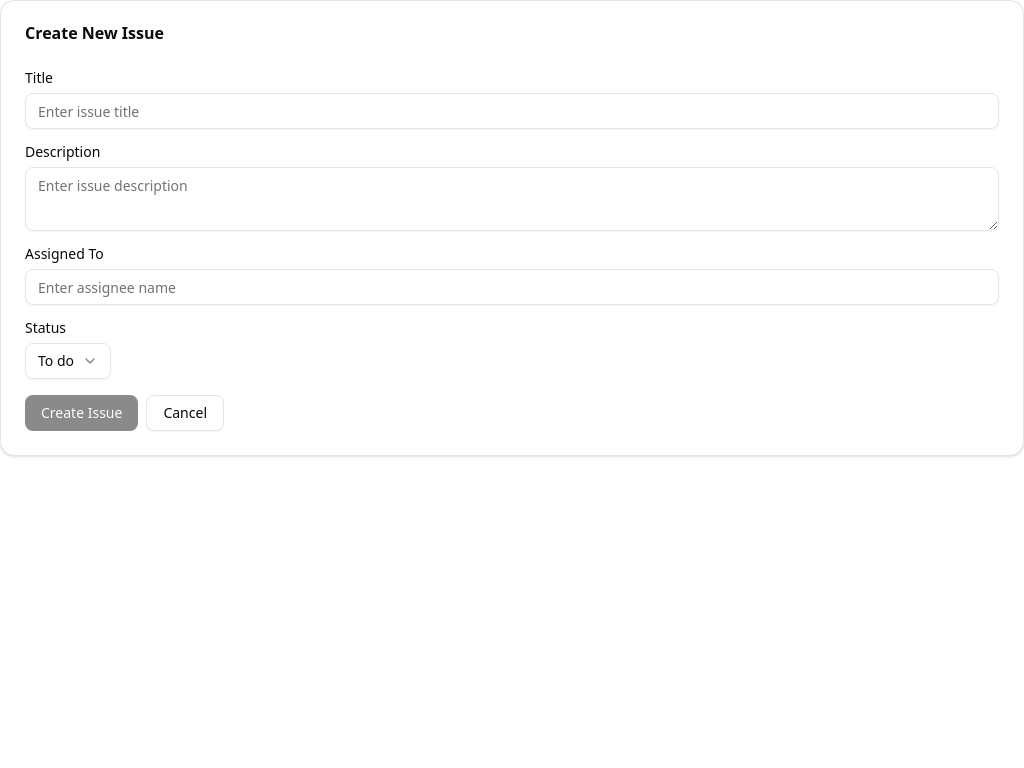
Test: IssueForm › Error Handling › displays error message on create failure
Type "New Issue" into the field with placeholder "Enter issue title" at (512, 111), box [25,93,999,129]
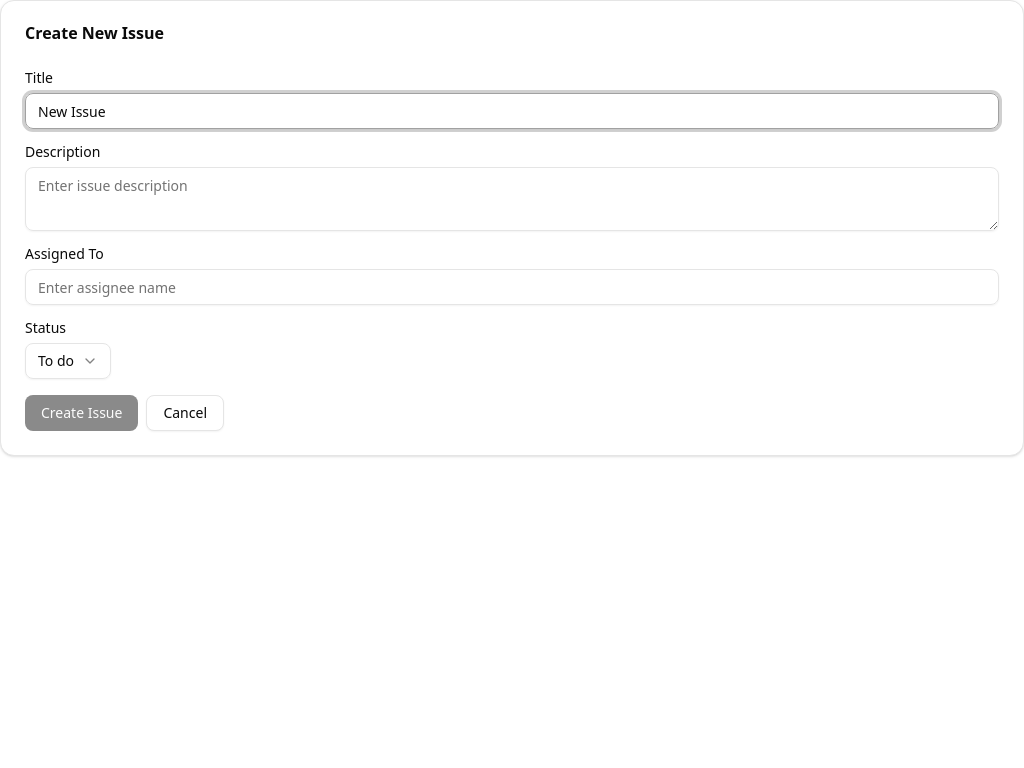
Type "Jane Doe" into the field with placeholder "Enter assignee name" at (512, 287), box [25,269,999,305]
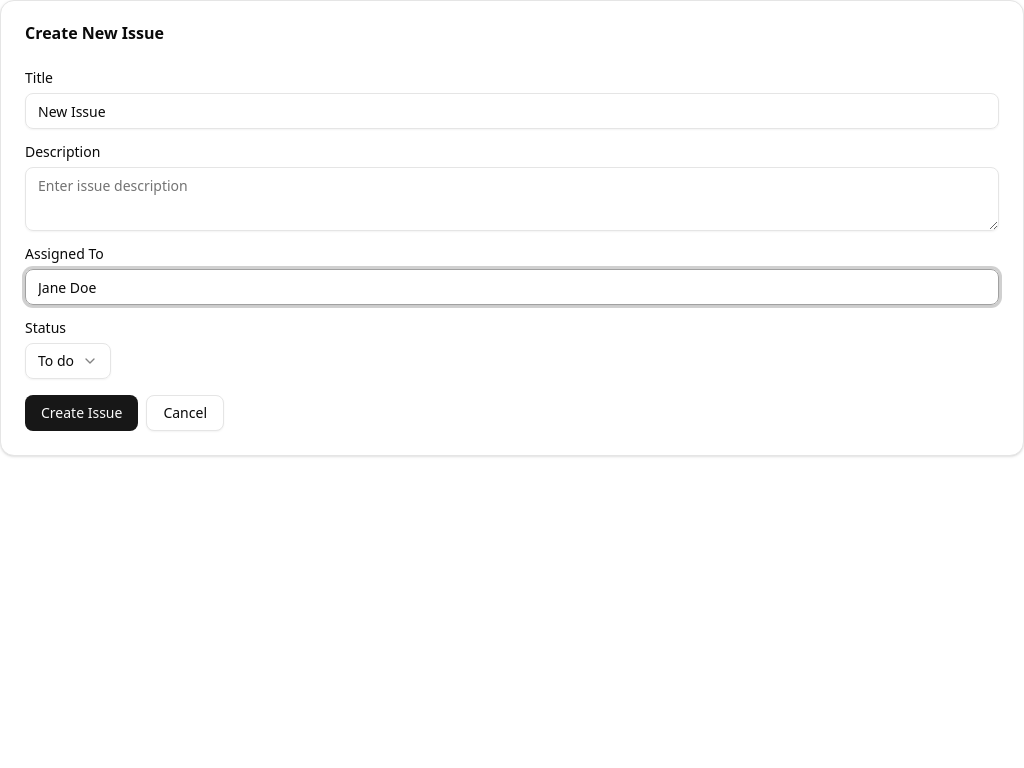
Click the button "Create Issue" at (82, 413), box [25,395,138,431]
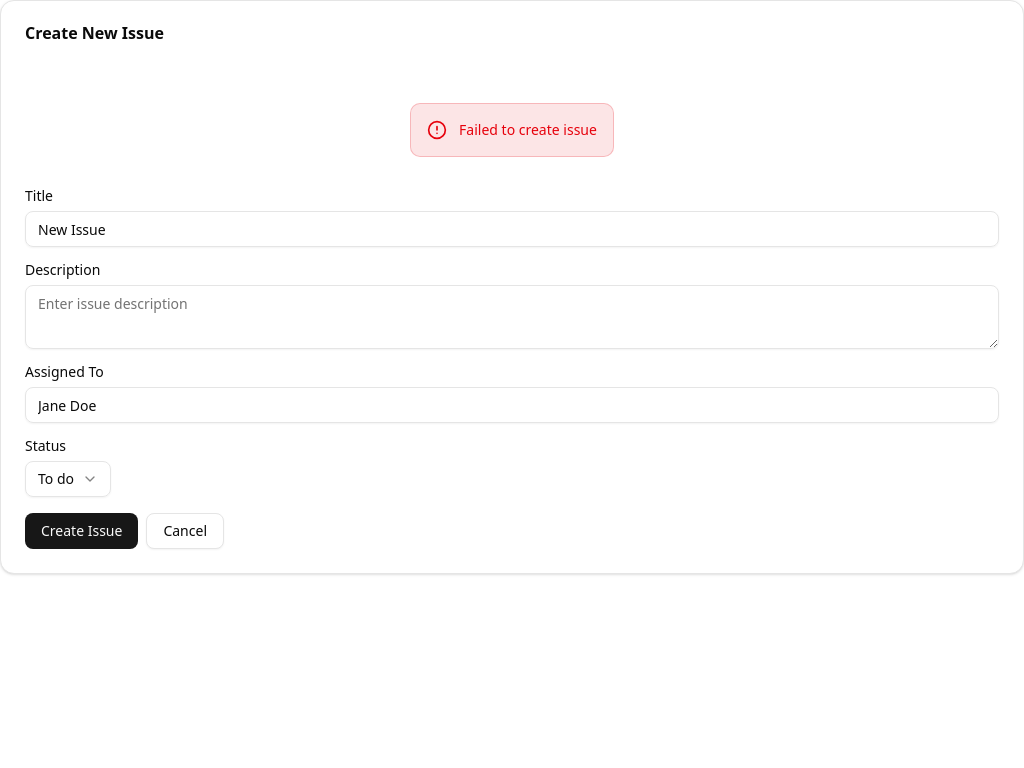
Check: the text "Failed to create issue" is shown, box [459,120,597,140]
